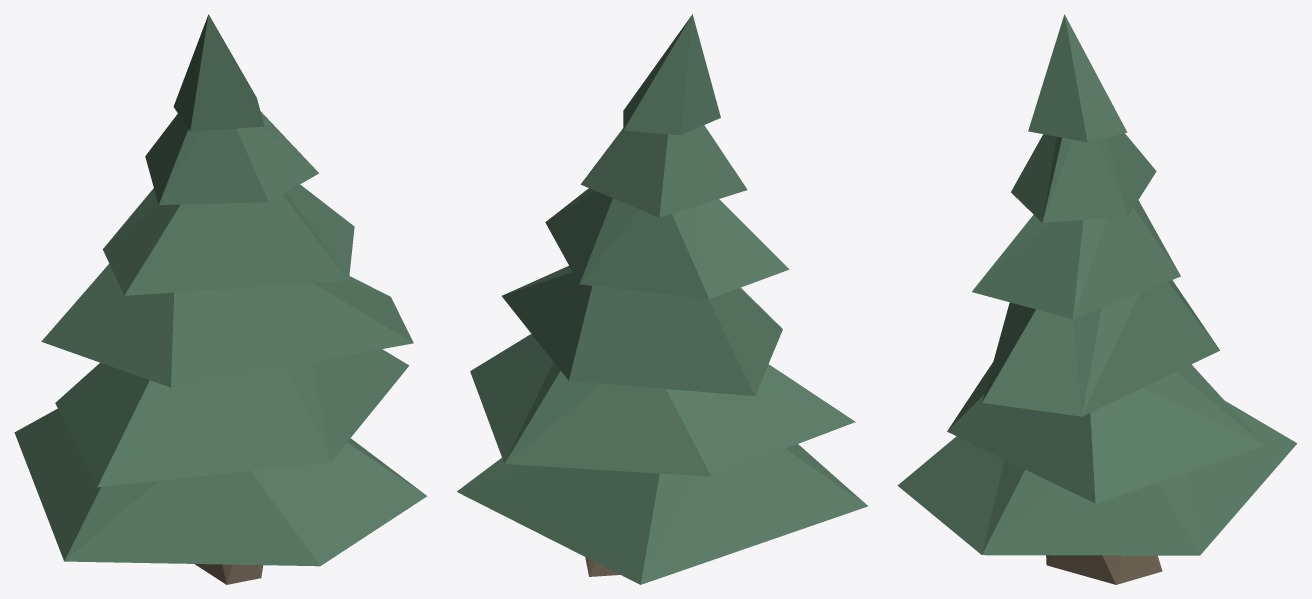
Rendered from evergreen-tree-1.glb.
3 renders of one model, left to right at view 1: azimuth 30°, elevation 25°; view 2: azimuth 150°, elevation 25°; view 3: azimuth 270°, elevation 25°, orthographic. The views are drawn at different scales.
Parts seen in each view (by area): view 1: Sketchup; view 2: Sketchup; view 3: Sketchup.
Boxes of the visible parts, left/top/right/bottom form: Sketchup: left=14, top=14, right=427, bottom=584; Sketchup: left=457, top=14, right=867, bottom=584; Sketchup: left=897, top=14, right=1296, bottom=584.
Bounding box in the file's own units: 3.62 × 5.14 × 3.51.
